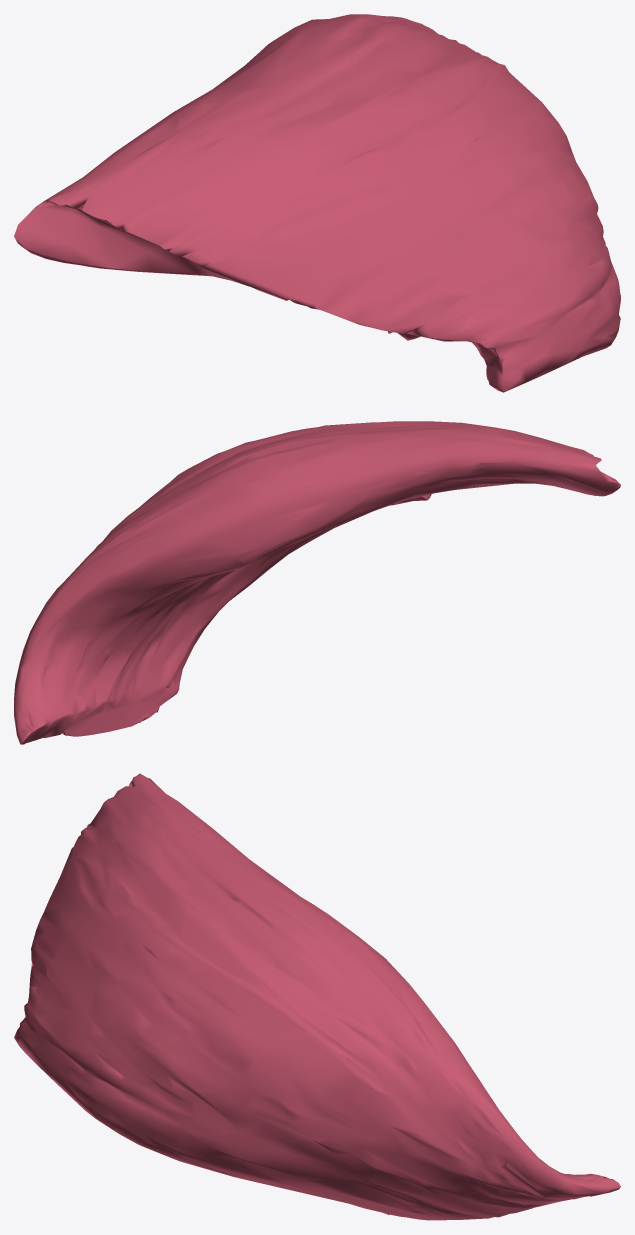
The picture shows the model from 3 angles, top to bottom: view 1: azimuth 30°, elevation 25°; view 2: azimuth 150°, elevation 25°; view 3: azimuth 270°, elevation 25°; orthographic projection. The views are drawn at different scales.
Parts seen in each view (by area): view 1: 左侧三角肌肩胛冈部; view 2: 左侧三角肌肩胛冈部; view 3: 左侧三角肌肩胛冈部.
Part boxes in pixels (x1,y1,x2,y2): 左侧三角肌肩胛冈部: (14,14,620,392); 左侧三角肌肩胛冈部: (14,421,620,744); 左侧三角肌肩胛冈部: (14,773,620,1220).
Bounding box in the file's own units: 0.2015 × 0.118 × 0.2305.
